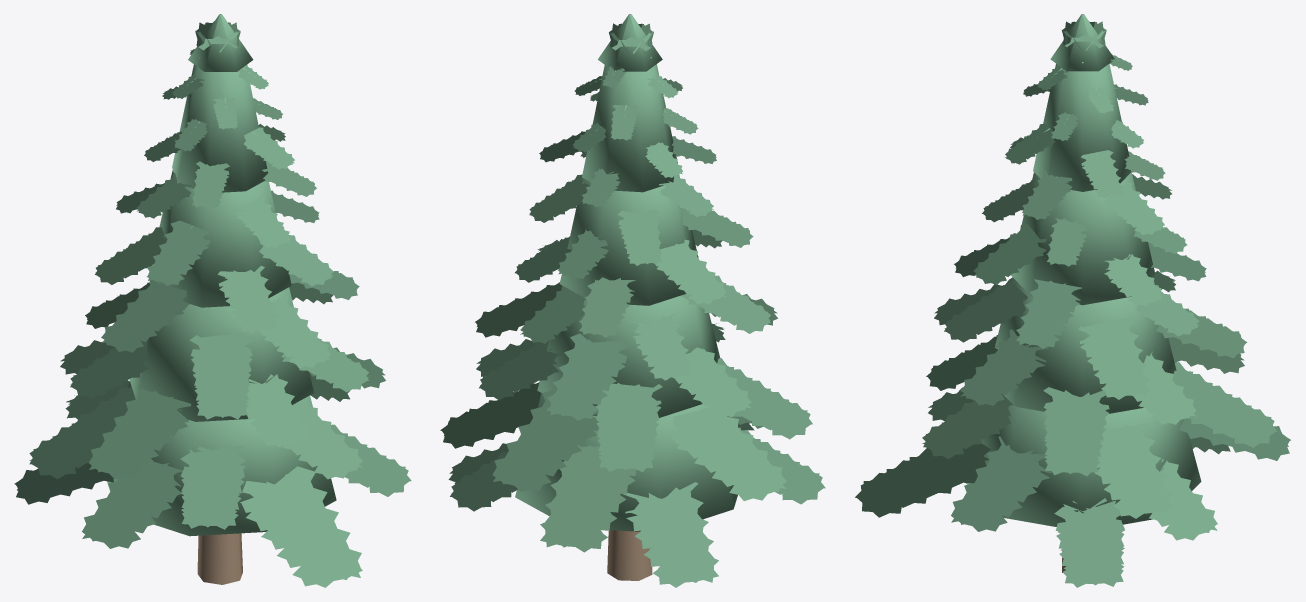
The model's file is tree_pine_A.glb.
The picture shows the model from 3 angles, left to right: view 1: azimuth 30°, elevation 25°; view 2: azimuth 150°, elevation 25°; view 3: azimuth 270°, elevation 25°; orthographic projection.
Visible parts, largest first — view 1: tree_pine_A; view 2: tree_pine_A; view 3: tree_pine_A.
Part boxes in pixels (x1,y1,x2,y2): tree_pine_A: (14, 14, 411, 587); tree_pine_A: (440, 14, 825, 587); tree_pine_A: (855, 14, 1290, 587).
Bounding box in the file's own units: 1.27 × 1.98 × 1.42.
